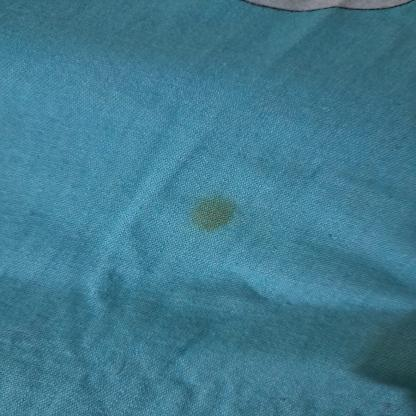spot: (178, 190, 249, 239)
